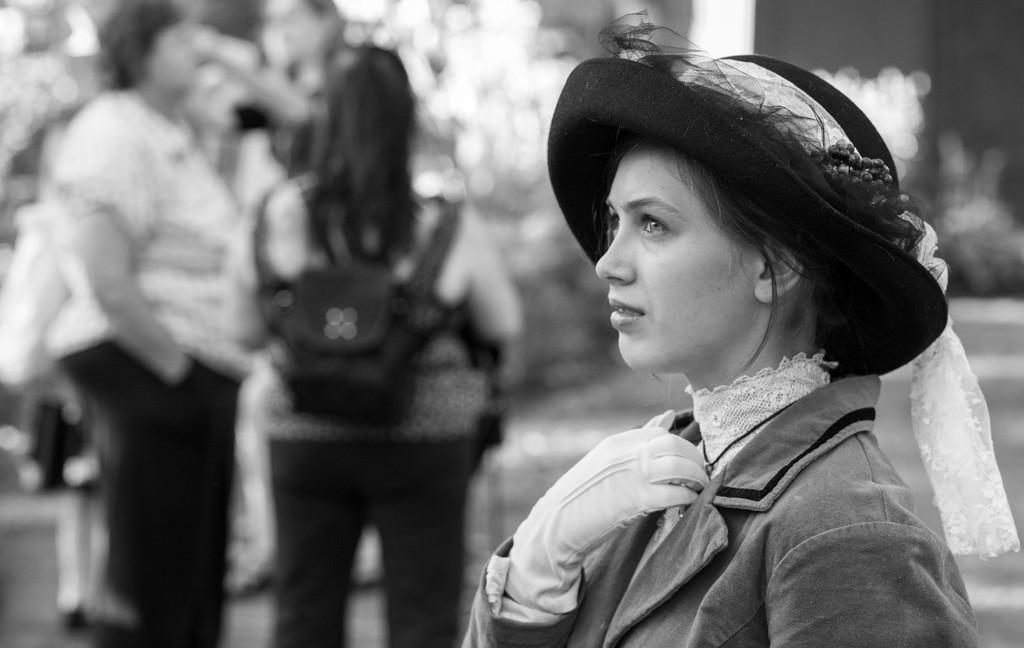Hat: (546, 9, 1018, 558)
